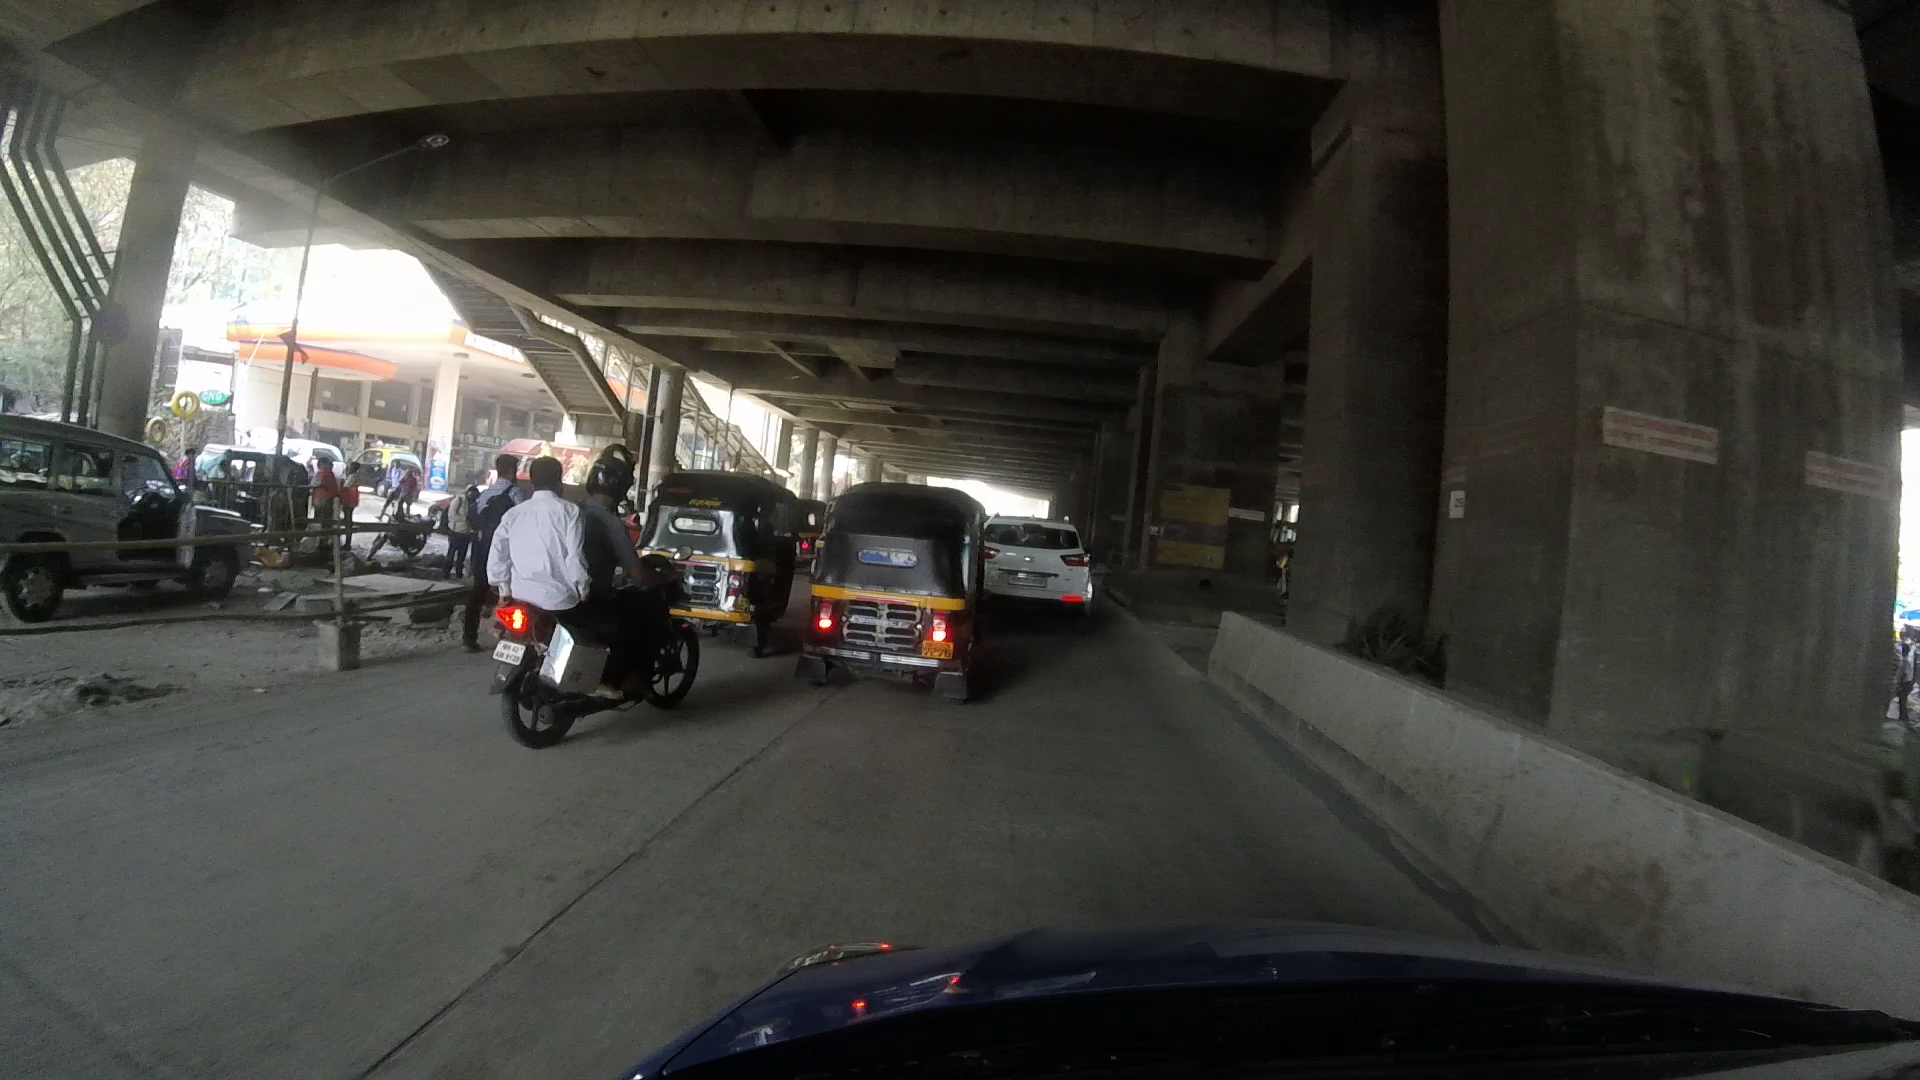bike/scooter: (502, 460, 690, 745)
car: (984, 510, 1096, 611)
rickshaw: (814, 469, 984, 688), (640, 504, 761, 640)
